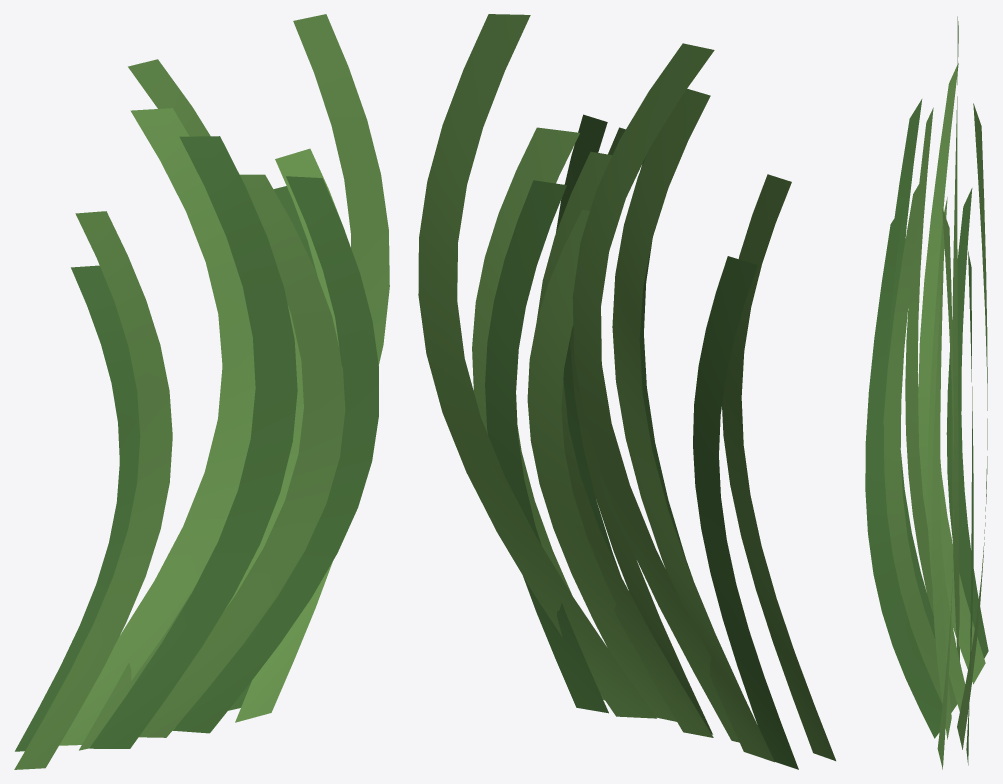
The model's file is plant-vallisneria-tall.glb.
3 views of the same model, side by side, from view 1: azimuth 30°, elevation 25°; view 2: azimuth 150°, elevation 25°; view 3: azimuth 270°, elevation 25° (orthographic). The views are drawn at different scales.
Parts seen in each view (by area): view 1: plant-vallisneria-tall; view 2: plant-vallisneria-tall; view 3: plant-vallisneria-tall.
Boxes of the visible parts, x1=… form: plant-vallisneria-tall: x1=14, y1=14, x2=389, y2=769; plant-vallisneria-tall: x1=418, y1=14, x2=835, y2=769; plant-vallisneria-tall: x1=865, y1=16, x2=988, y2=769.
Size of the model in its own units: 1.18 by 1.94 by 0.3139.
